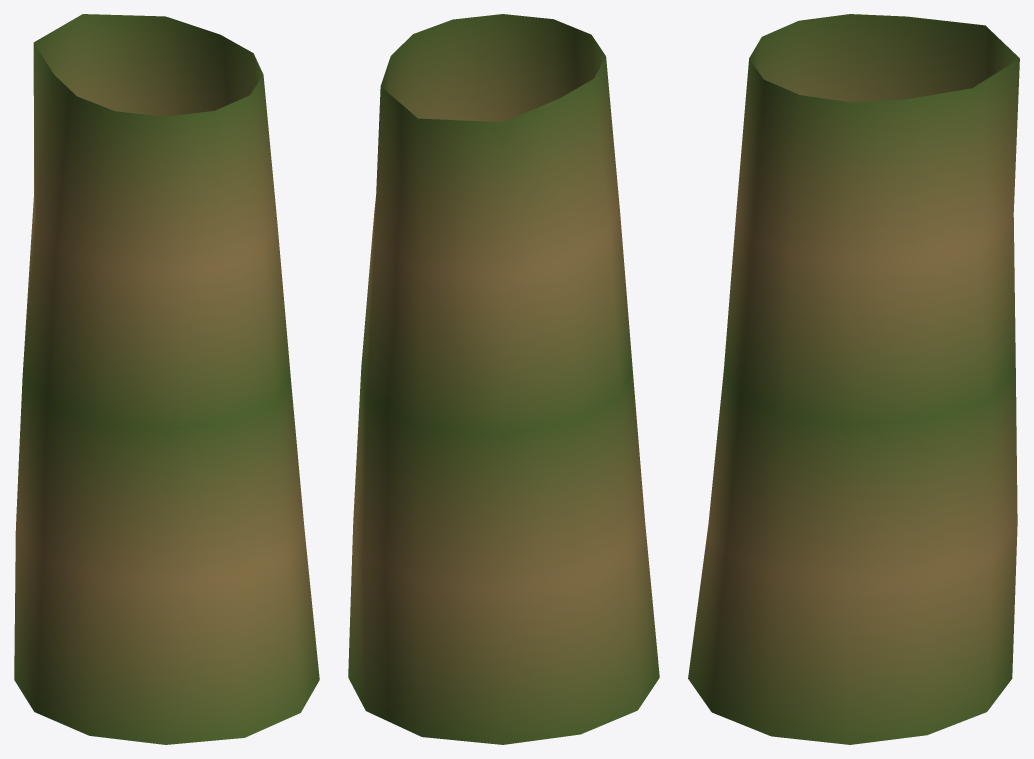
Rendered from turtle_armor_greave.R.glb.
The picture shows the model from 3 angles, left to right: view 1: azimuth 30°, elevation 25°; view 2: azimuth 150°, elevation 25°; view 3: azimuth 270°, elevation 25°; orthographic projection. The views are drawn at different scales.
Parts seen in each view (by area): view 1: turtle_armor_greave.R; view 2: turtle_armor_greave.R; view 3: turtle_armor_greave.R.
Boxes of the visible parts, <box> form: turtle_armor_greave.R: <box>14,14,319,744</box>; turtle_armor_greave.R: <box>348,14,659,744</box>; turtle_armor_greave.R: <box>688,14,1019,744</box>.
Bounding box in the file's own units: 0.172 × 0.3767 × 0.1827.
